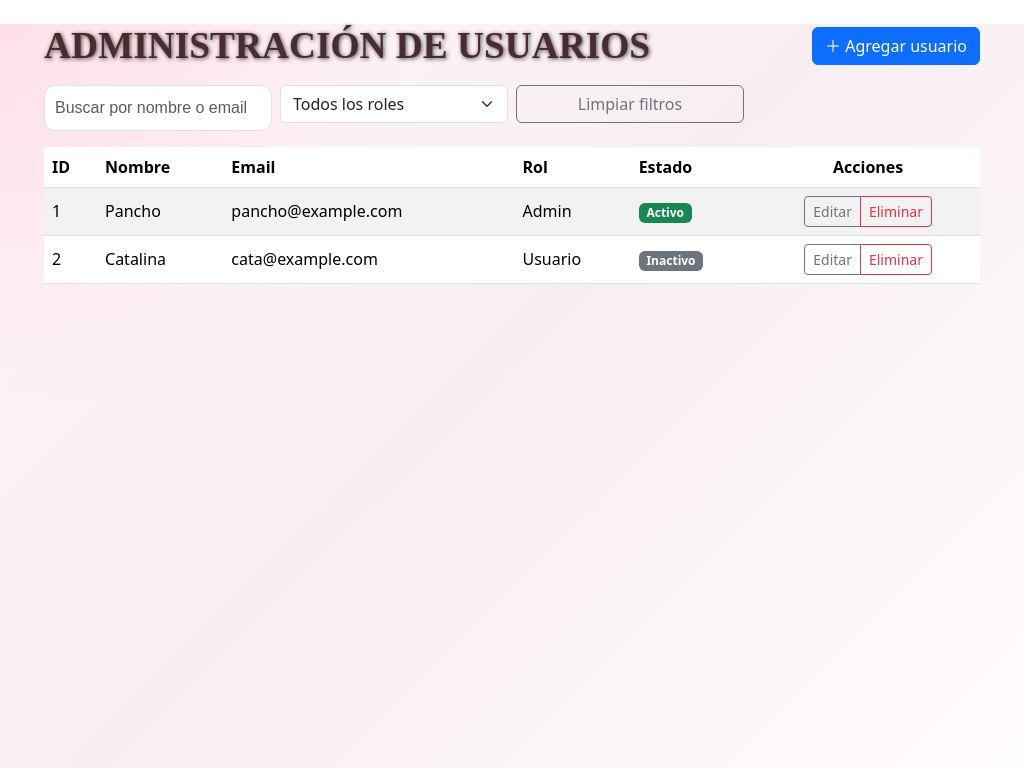
Usuario component › filtra por texto
Expected: the text "Pancho" is shown, [97, 187, 223, 235]
Type "cata" into the field with placeholder "Buscar por nombre o email". click: (158, 108)
box: [44, 85, 272, 131]
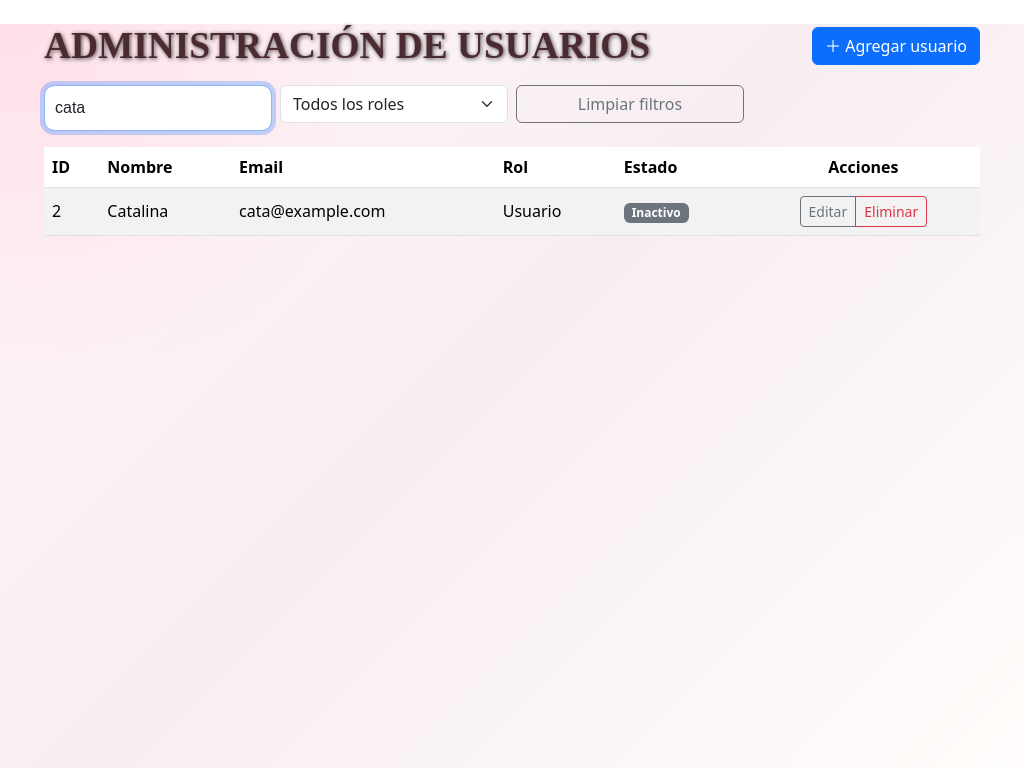
Expected: the text "Catalina" is shown, [99, 187, 231, 235]
Now the text "Pancho" is gone
